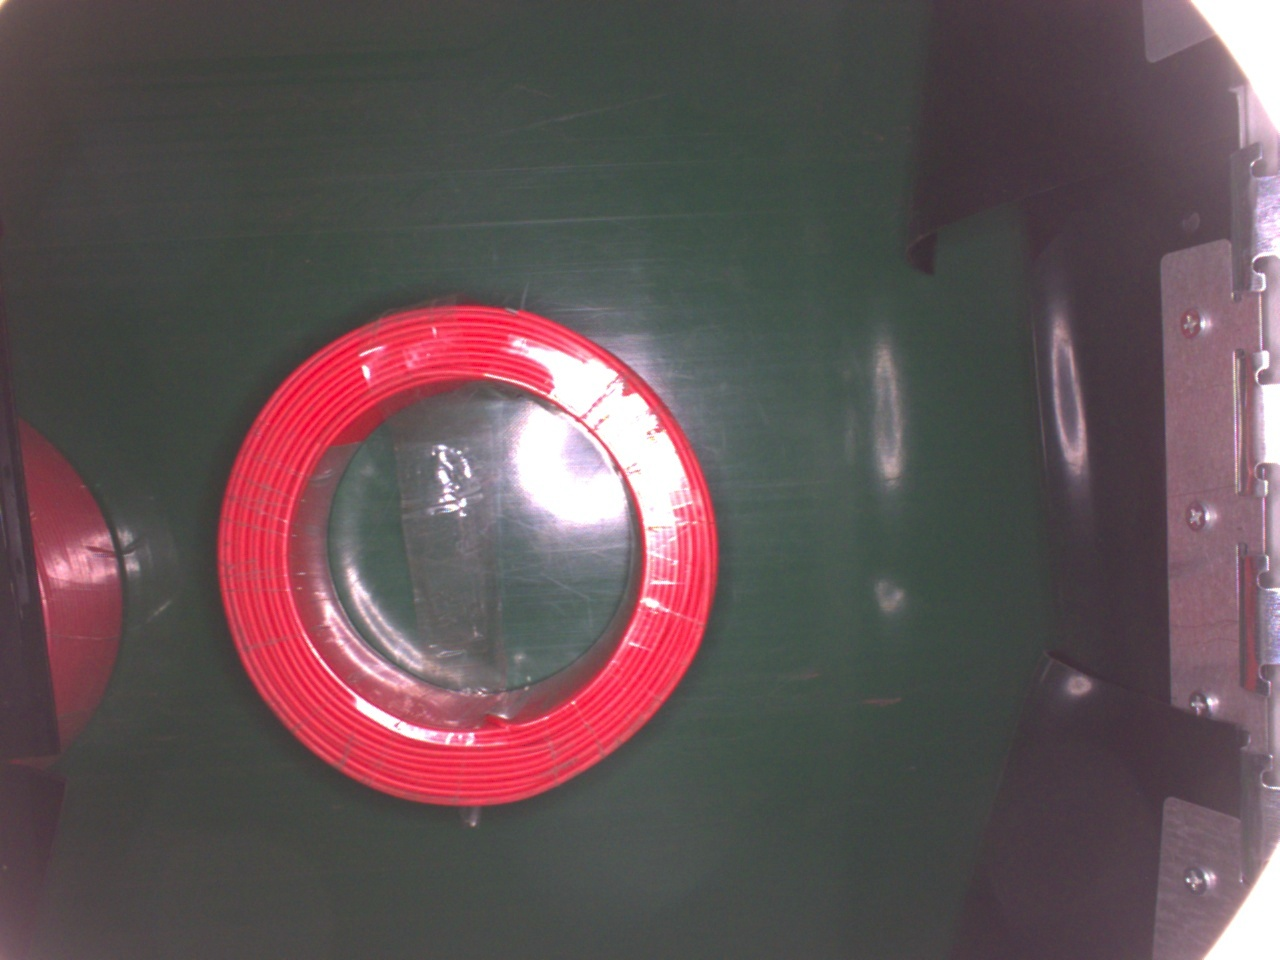red: (213, 301, 720, 812)
